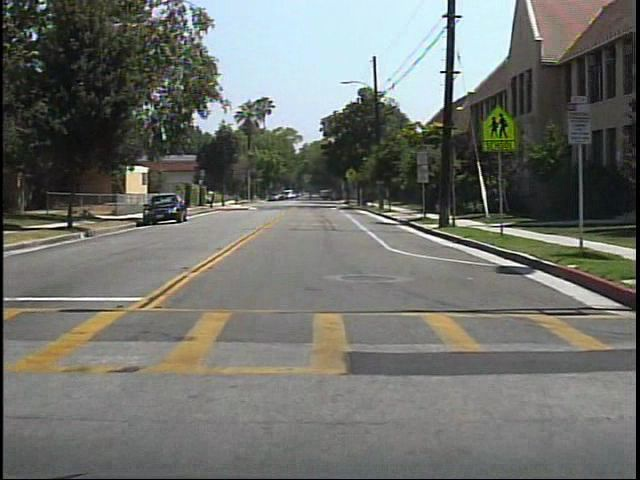person: (304, 188, 318, 205)
